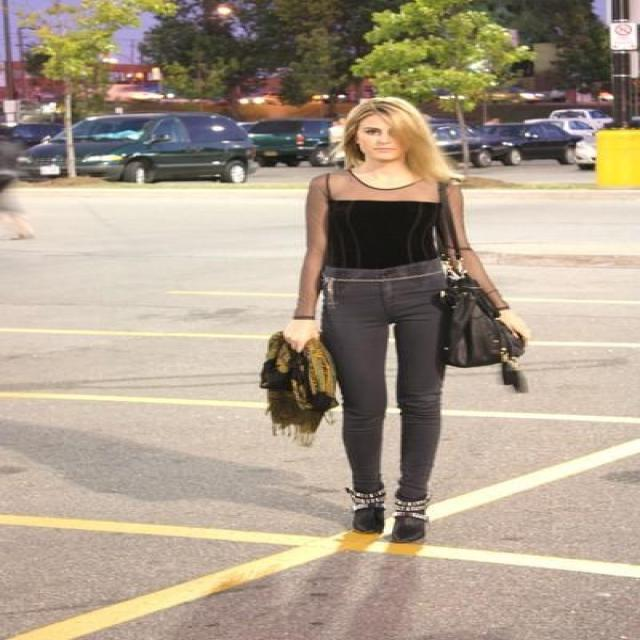bag: (435, 273, 525, 392)
jacket: (259, 332, 341, 449)
pants: (318, 257, 464, 498)
shirt: (292, 164, 498, 319)
shoe: (346, 473, 430, 542)
